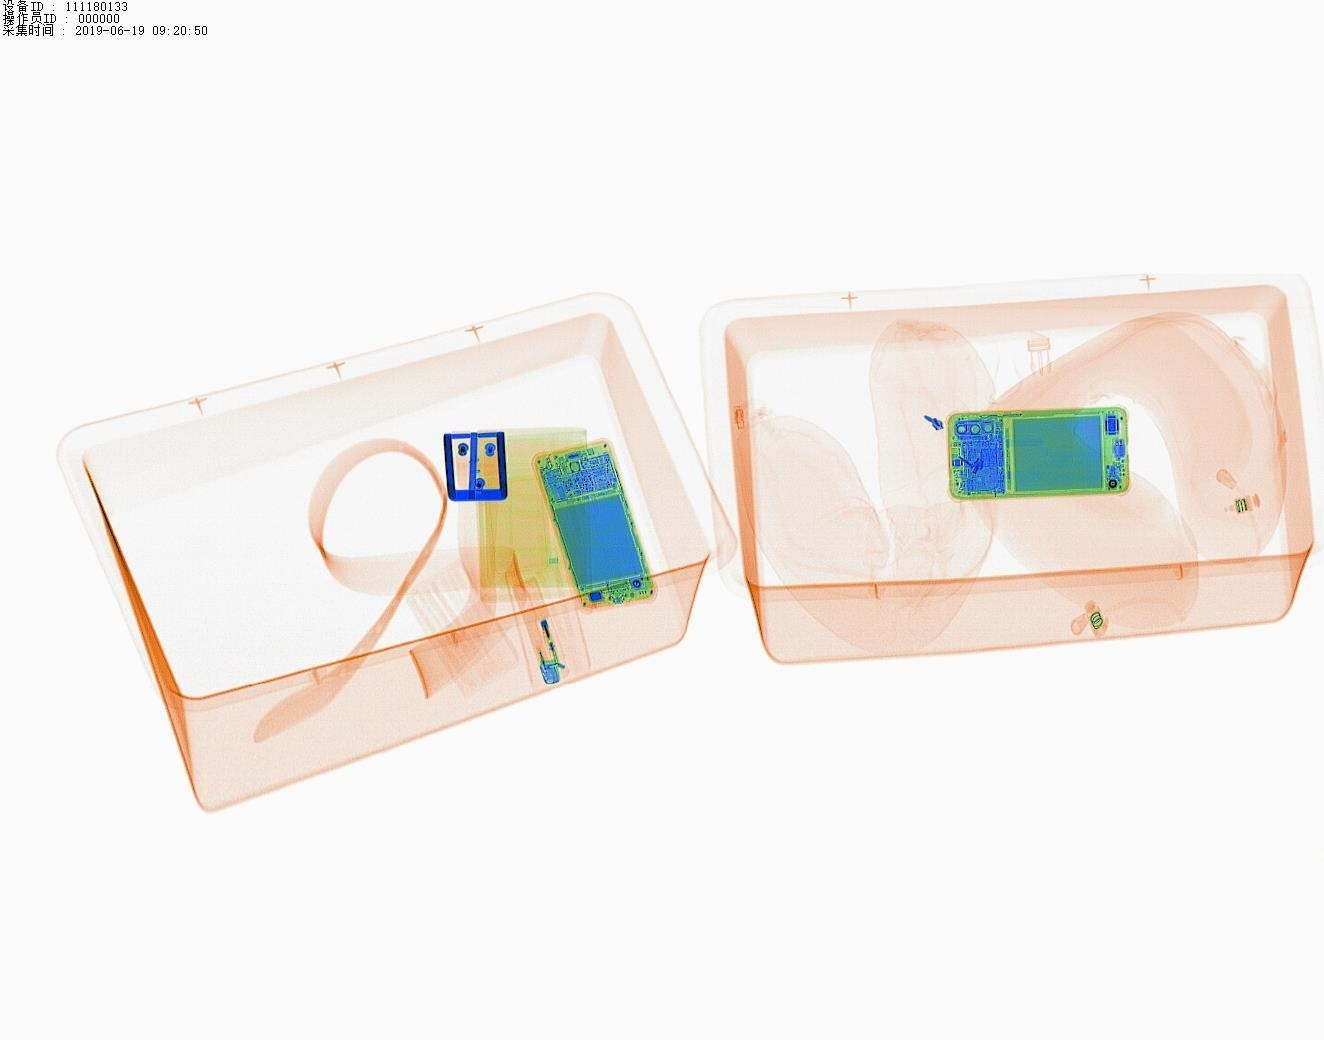NonmetallicFire: (513, 588, 569, 691)
